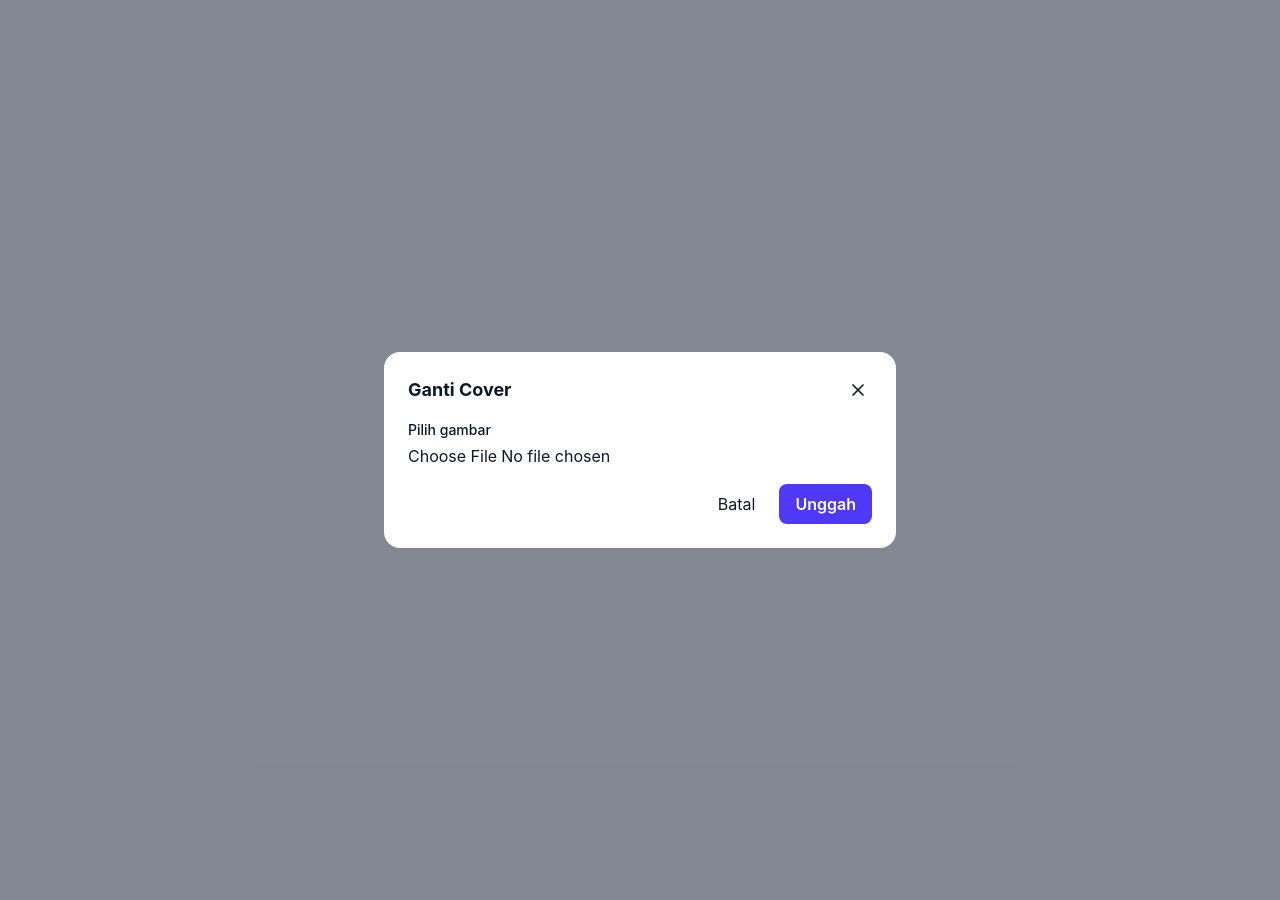
ChangeCoverModal › menampilkan pesan error jika dikirim tanpa memilih gambar
This screenshot has width=1280, height=900.
Click the button "Unggah".
click(826, 504)  # box [779,484,872,524]
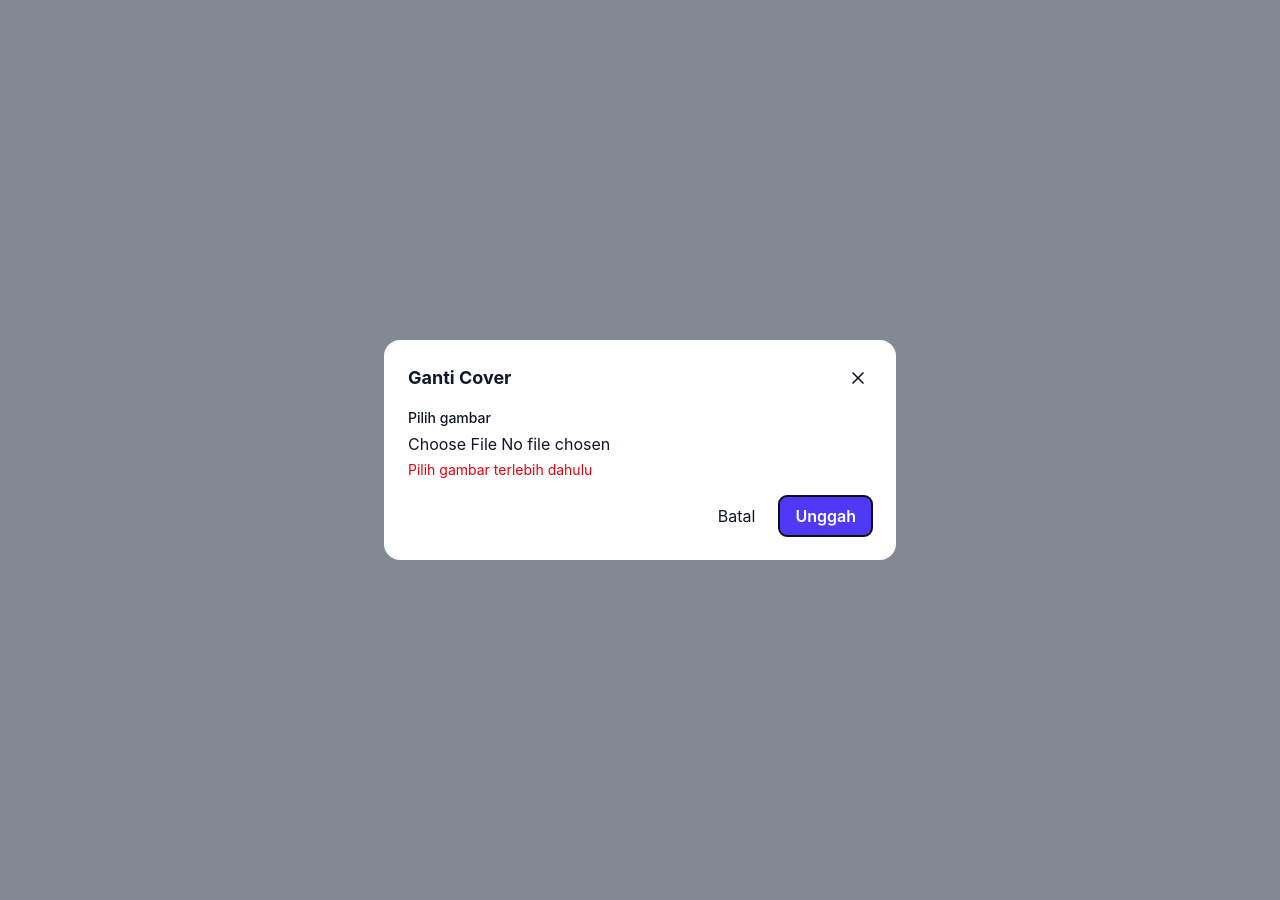
Expected: the text "Pilih gambar terlebih dahulu" is shown, [408,461,592,478]
